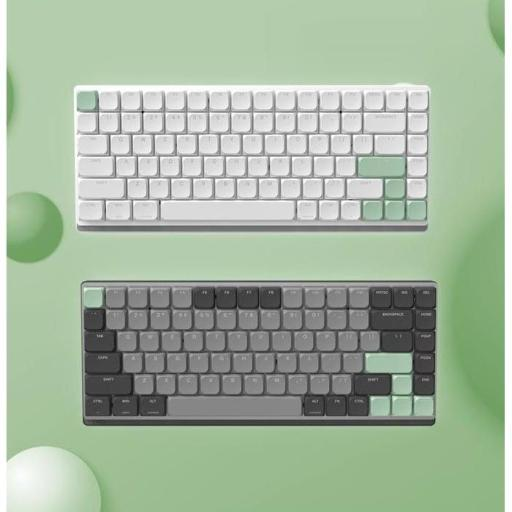keyboard: (74, 273, 448, 442), (68, 76, 437, 239)
